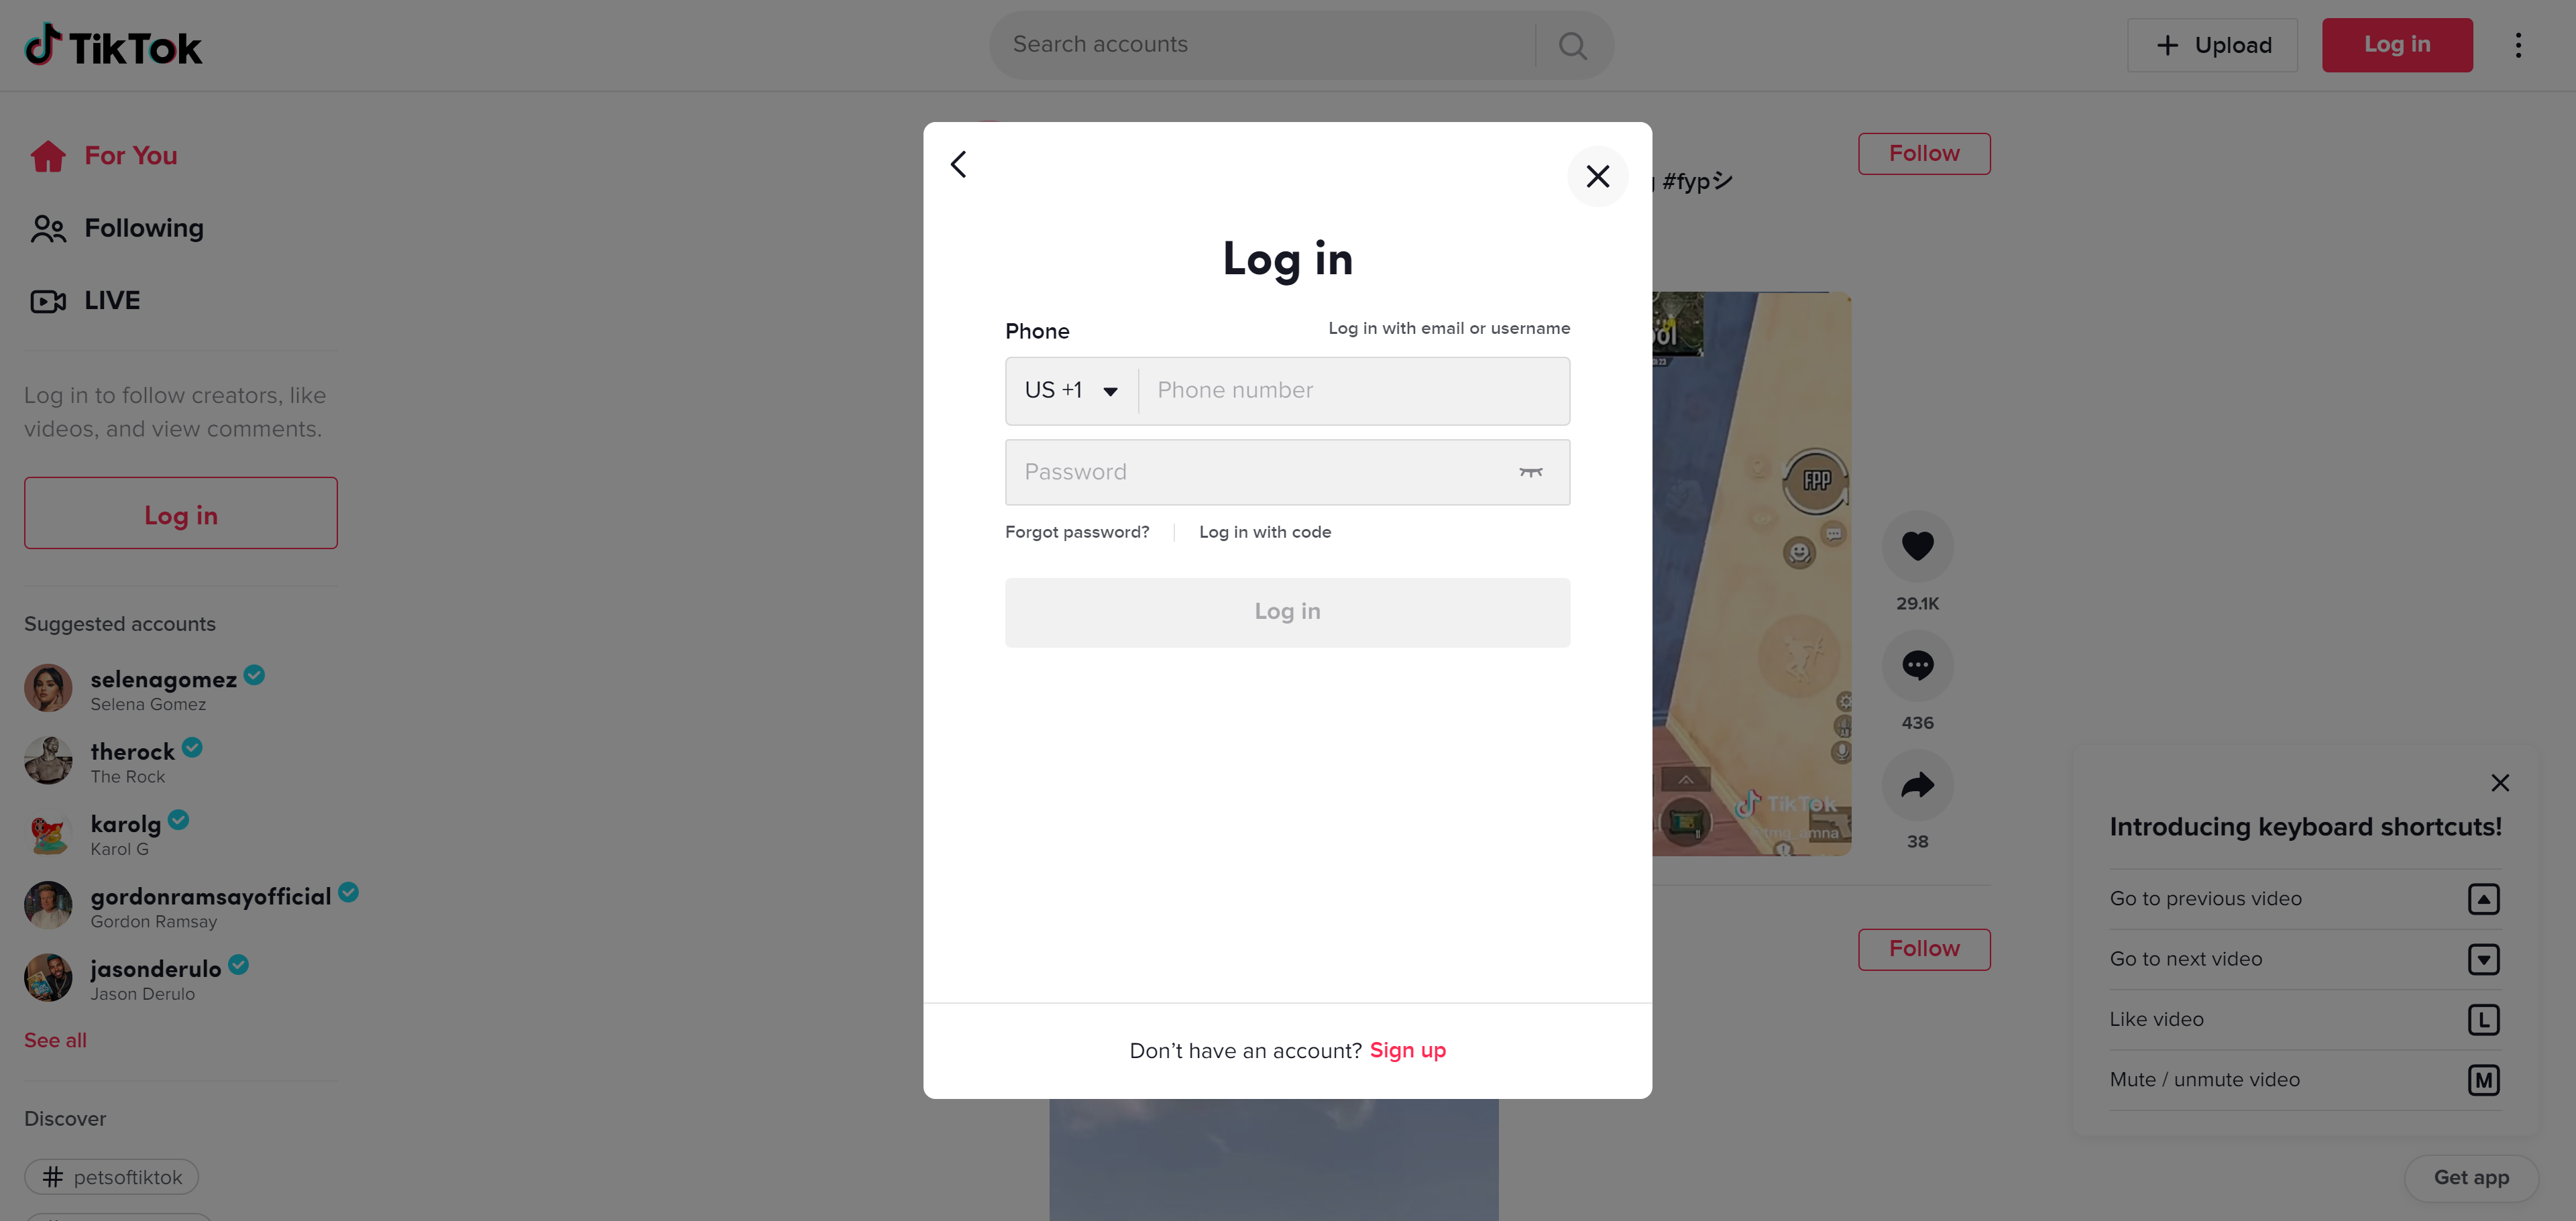login_button: (1005, 580, 1569, 646)
login_form: (1000, 316, 1577, 654)
